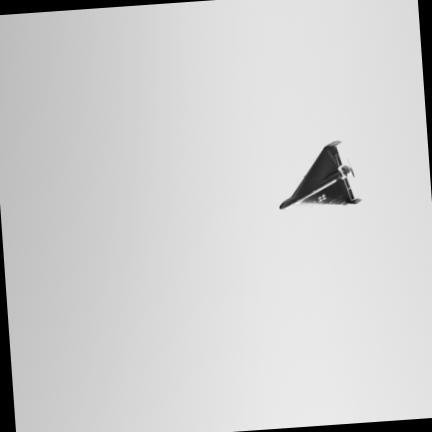Shahed: (280, 141, 359, 207)
